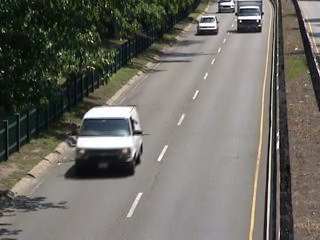car: (196, 15, 222, 36), (216, 1, 236, 13)
truck: (69, 101, 147, 179), (236, 1, 265, 36)
